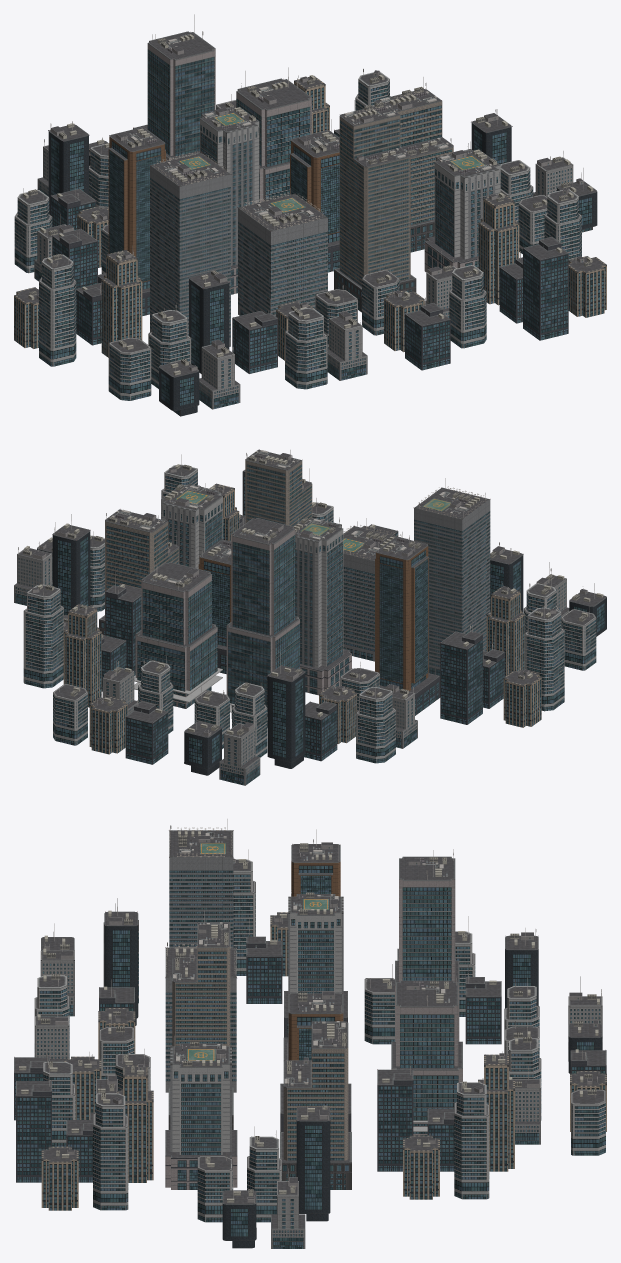
The model's file is jctlowBldFarA.fbx.
3 renders of one model, top to bottom at view 1: azimuth 30°, elevation 25°; view 2: azimuth 150°, elevation 25°; view 3: azimuth 270°, elevation 25°, orthographic. The views are drawn at different scales.
Visible parts, largest first — view 1: jctlowBldFarA; view 2: jctlowBldFarA; view 3: jctlowBldFarA.
Part boxes in pixels (x1,y1,x2,y2): jctlowBldFarA: [14, 14, 606, 416]; jctlowBldFarA: [14, 449, 606, 785]; jctlowBldFarA: [14, 819, 606, 1248].
Size of the model in its own units: 47548 by 18326 by 41343.
6 materials, 6 textured.
